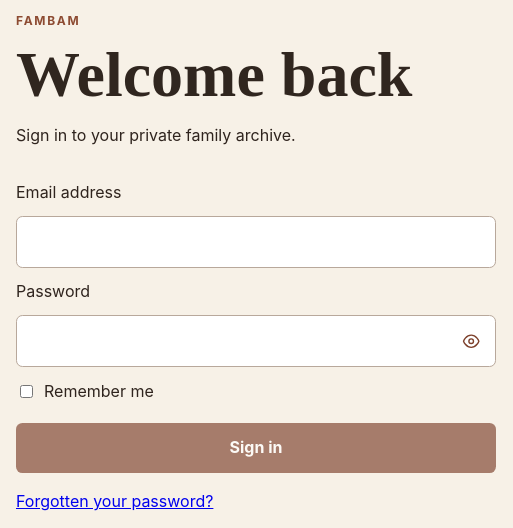
Test: App › renders password-manager-friendly login fields
Click the button named "Show password" at (472, 341), box [454,323,490,359]
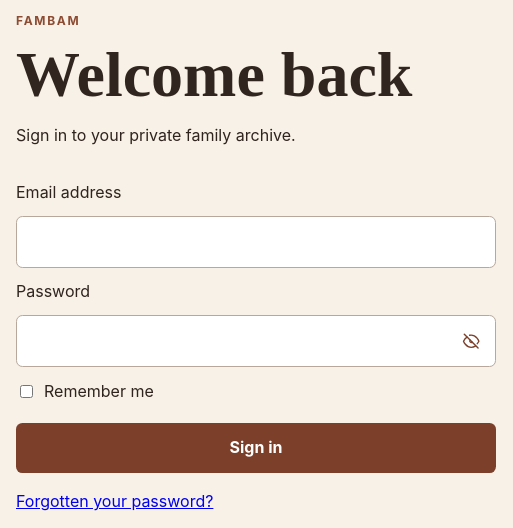
Result: the button named "Hide password" is shown at [454,323,490,359]
